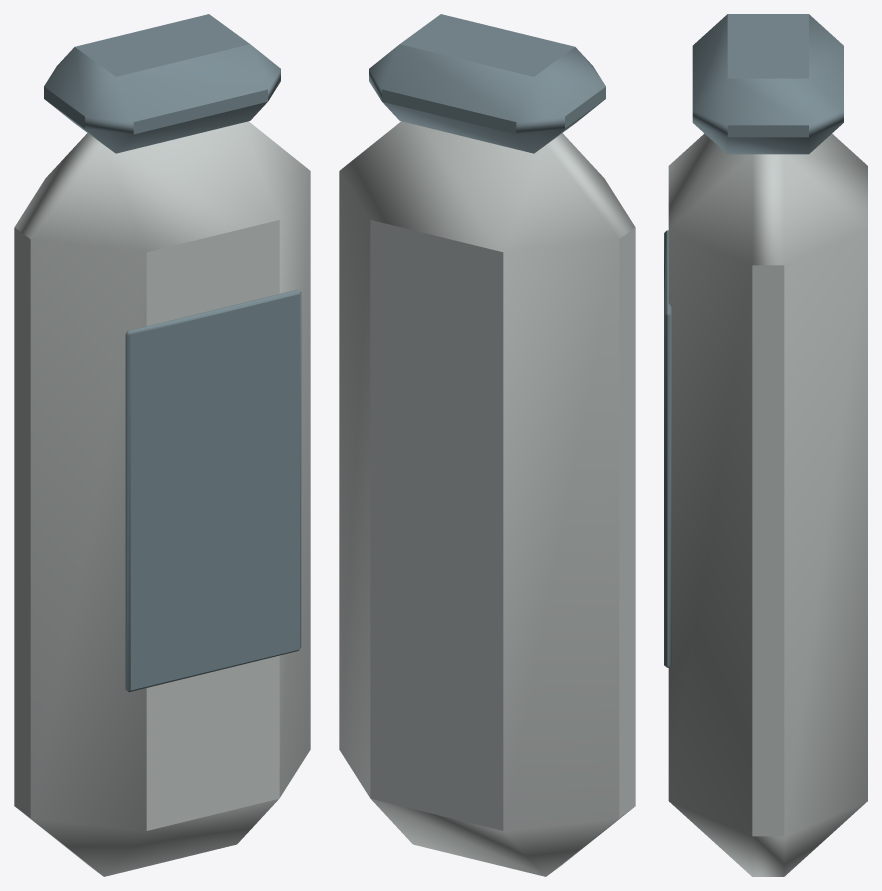
The model's file is shampoo-bottle.glb.
3 renders of one model, left to right at view 1: azimuth 30°, elevation 25°; view 2: azimuth 150°, elevation 25°; view 3: azimuth 270°, elevation 25°, orthographic.
Parts seen in each view (by area): view 1: bottle_curved_body, label_panel, flip_cap; view 2: bottle_curved_body, flip_cap; view 3: bottle_curved_body, flip_cap, label_panel.
Boxes of the visible parts, box(x1,y1,x2,y2) form: bottle_curved_body: box(14, 121, 310, 876); label_panel: box(125, 289, 301, 692); flip_cap: box(44, 14, 280, 153); bottle_curved_body: box(339, 121, 635, 876); flip_cap: box(369, 14, 605, 153); bottle_curved_body: box(668, 133, 867, 876); flip_cap: box(692, 14, 843, 154); label_panel: box(664, 230, 671, 667).
Size of the model in its own units: 0.084 by 0.232 by 0.0537.
